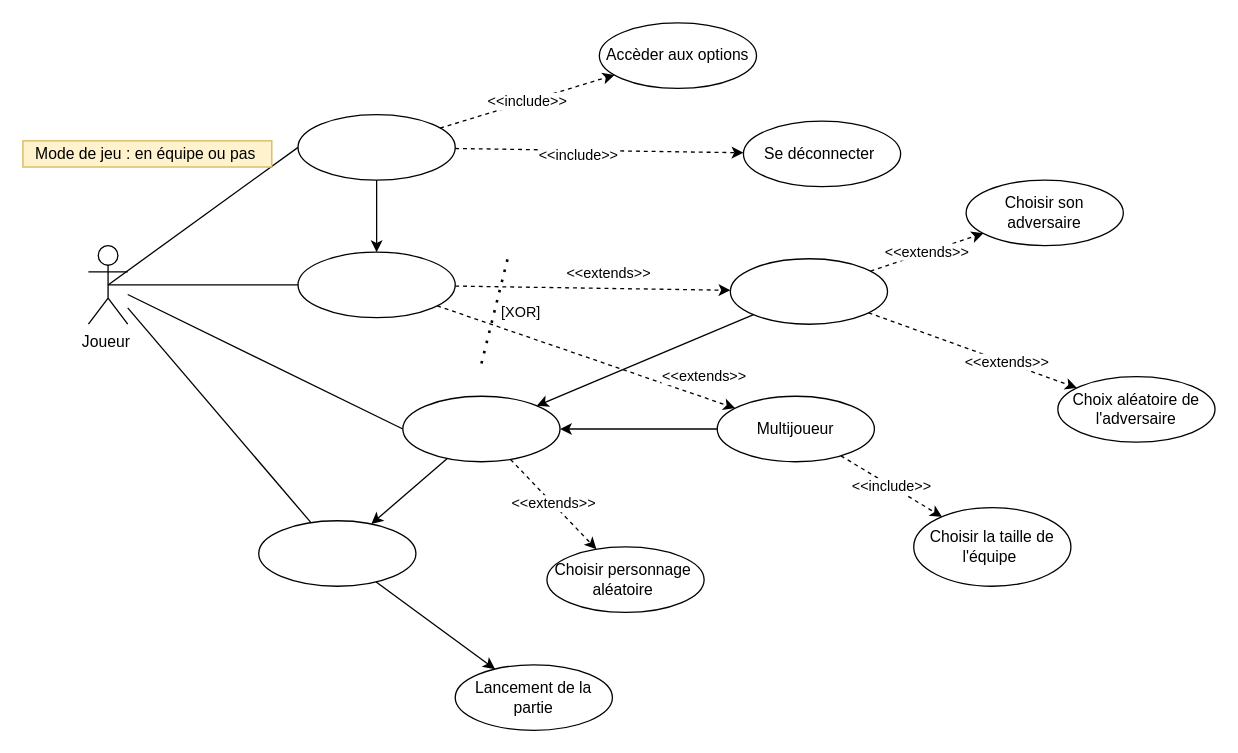
The diagram is 1238 pixels wide and 753 high, and some of its shapes have lost their labels. The centre of each missing label's shape, as x and y in pixels:
"Choisir mode de jeu" belongs at [376,284].
"Choisir sa carte" belongs at [336,552].
"Choisir son anibride" belongs at [481,428].
"Se connecte" belongs at [376,146].
"Solo" belongs at [808,290].
